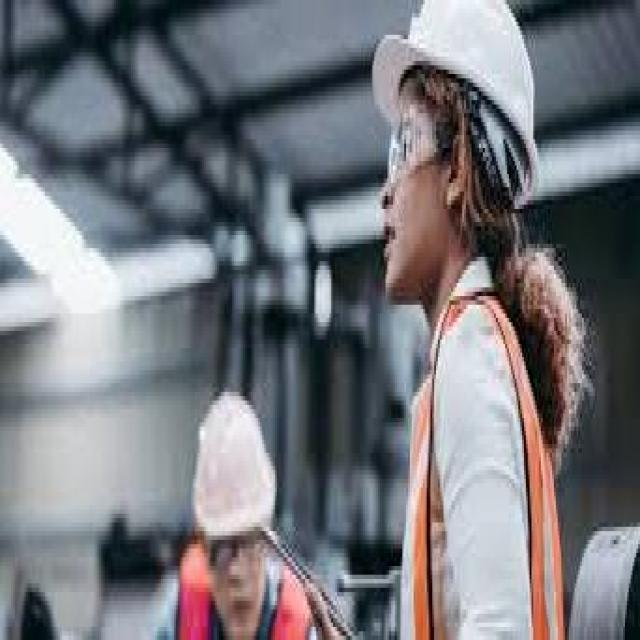Reflective-Jacket: (391, 265, 572, 640)
Safety-Helmet: (371, 0, 550, 192), (176, 370, 290, 570)
